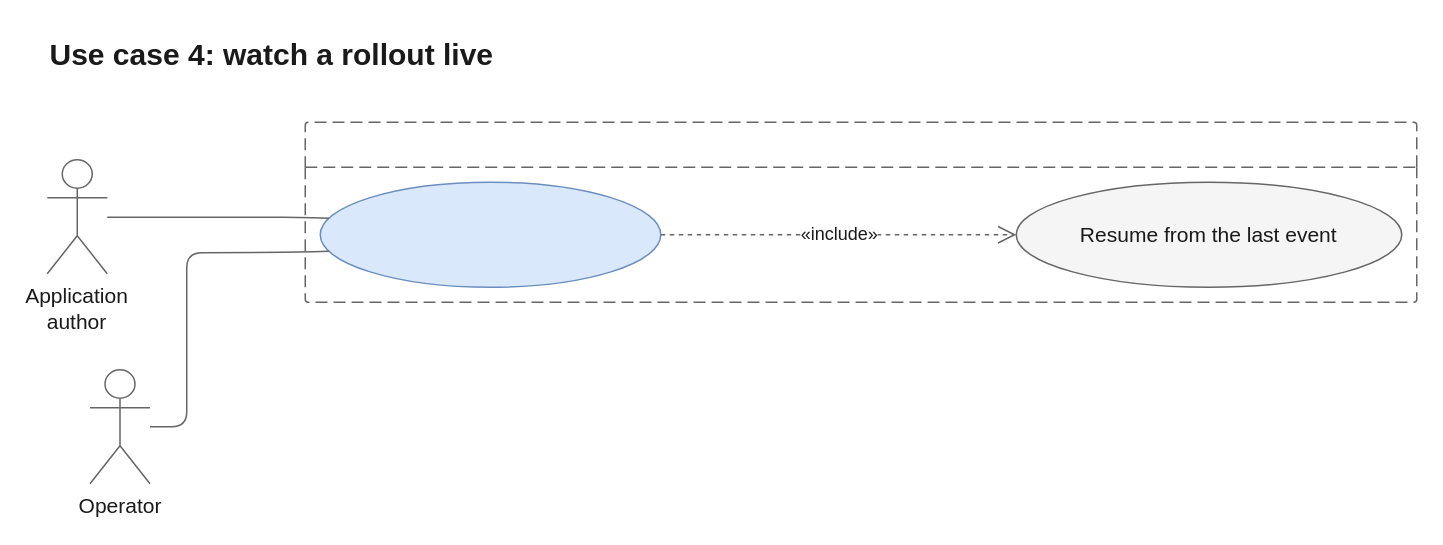
Image size: 1443x545. Some labels were removed from this diagram. Each missing label, with the box of its shape:
estate-kit: (304, 121, 1417, 302)
Watch the rollout live: (319, 181, 661, 287)
